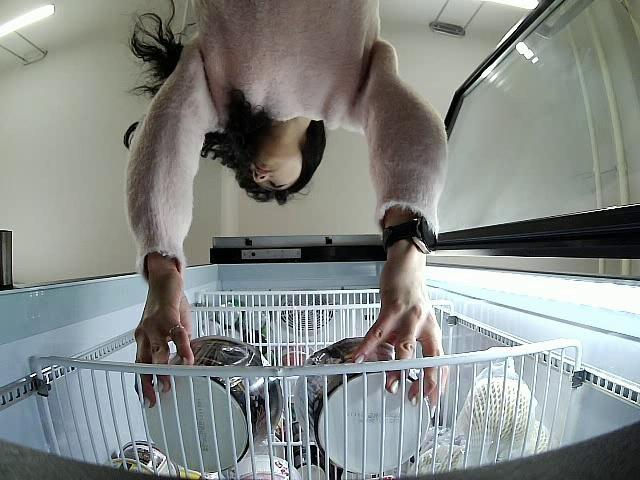07_buldak_L: (144, 337, 282, 472), (295, 340, 430, 470)
